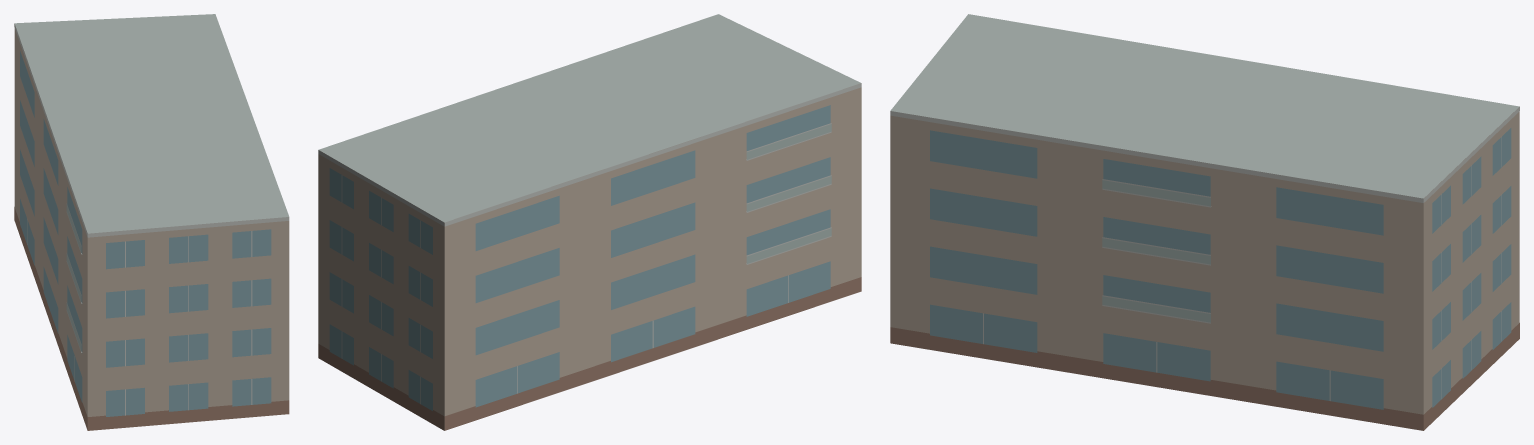
File: survey-upis-32885710.glb
The picture shows the model from 3 angles, left to right: view 1: azimuth 30°, elevation 25°; view 2: azimuth 150°, elevation 25°; view 3: azimuth 270°, elevation 25°; orthographic projection. The views are drawn at different scales.
Parts seen in each view (by area): view 1: survey-upis-32885710.tmp; view 2: survey-upis-32885710.tmp; view 3: survey-upis-32885710.tmp.
Boxes of the visible parts, x1=… form: survey-upis-32885710.tmp: x1=14, y1=14, x2=289, y2=430; survey-upis-32885710.tmp: x1=318, y1=14, x2=861, y2=430; survey-upis-32885710.tmp: x1=890, y1=14, x2=1519, y2=430.
Size of the model in its own units: 20.79 by 12.2 by 29.96.
